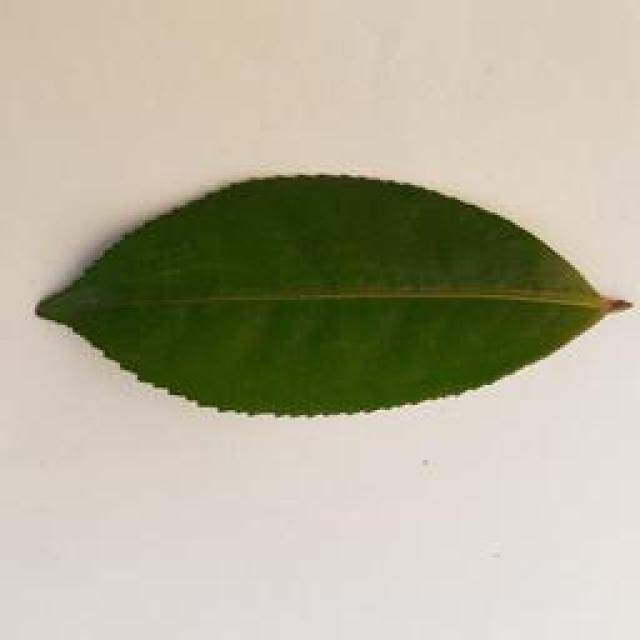Healthy: (30, 179, 626, 418)
